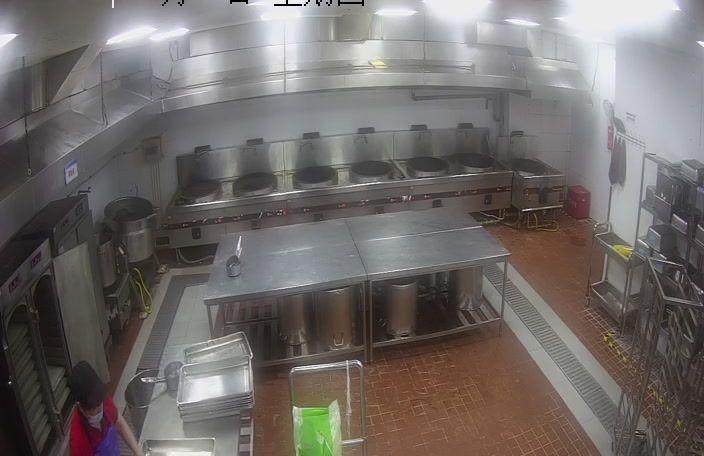mask: (86, 400, 104, 424)
